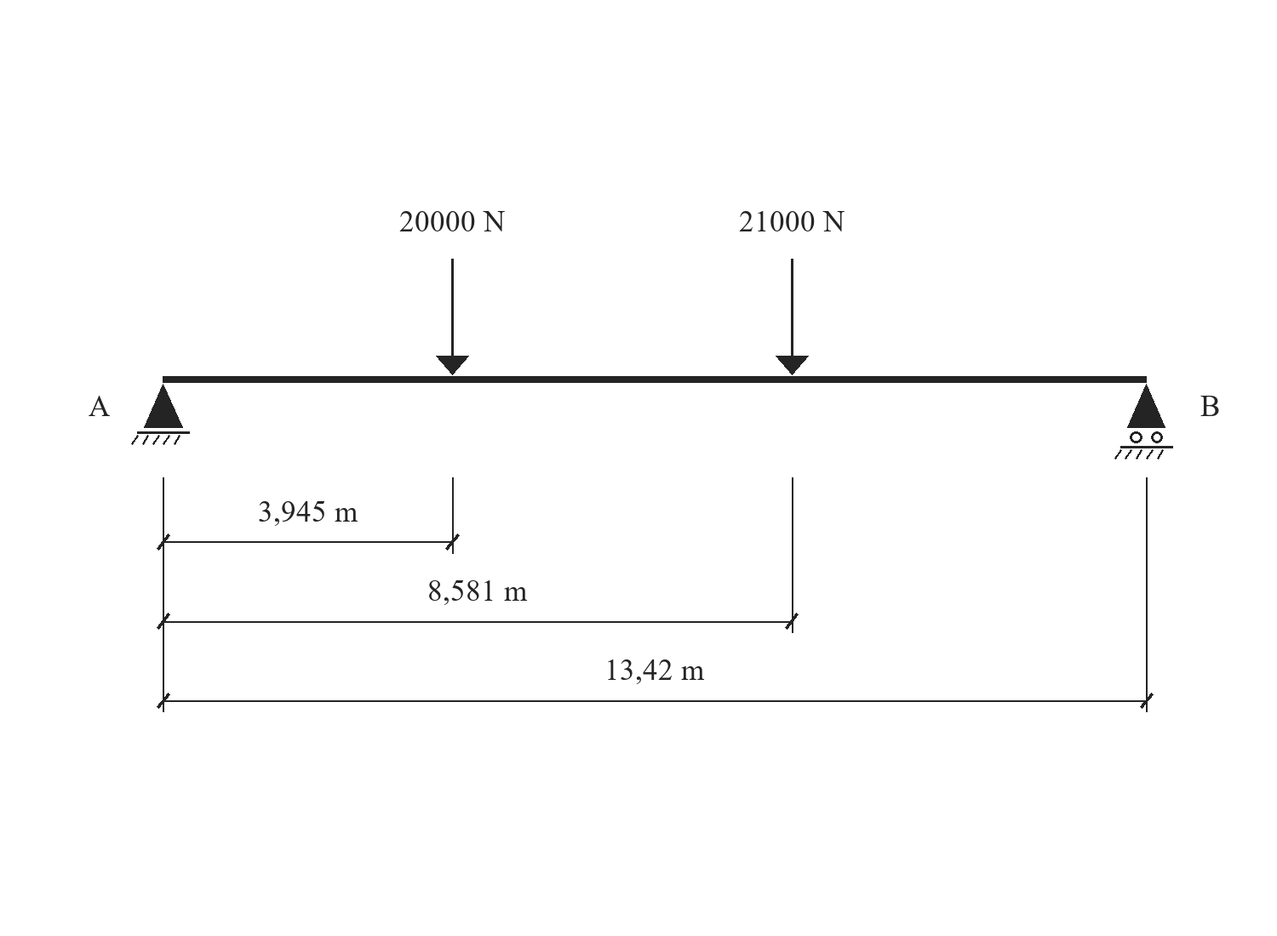pin_support: (131, 384, 190, 445)
point_load: (436, 259, 469, 375), (776, 259, 809, 375)
roller_support: (1114, 384, 1173, 459)
